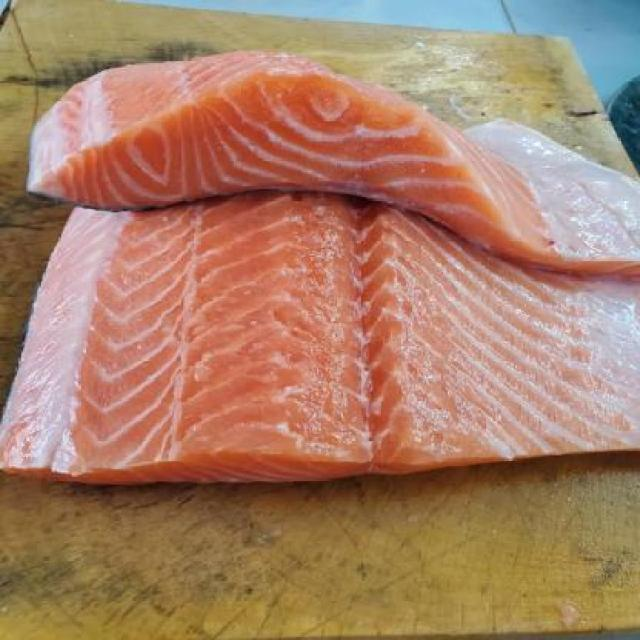salmon: (11, 144, 640, 490), (23, 49, 640, 288)
